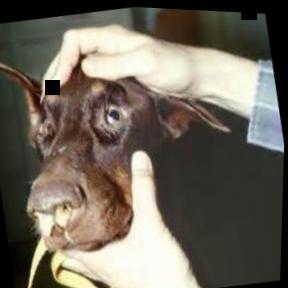nasal_discharge: (23, 193, 82, 241)
